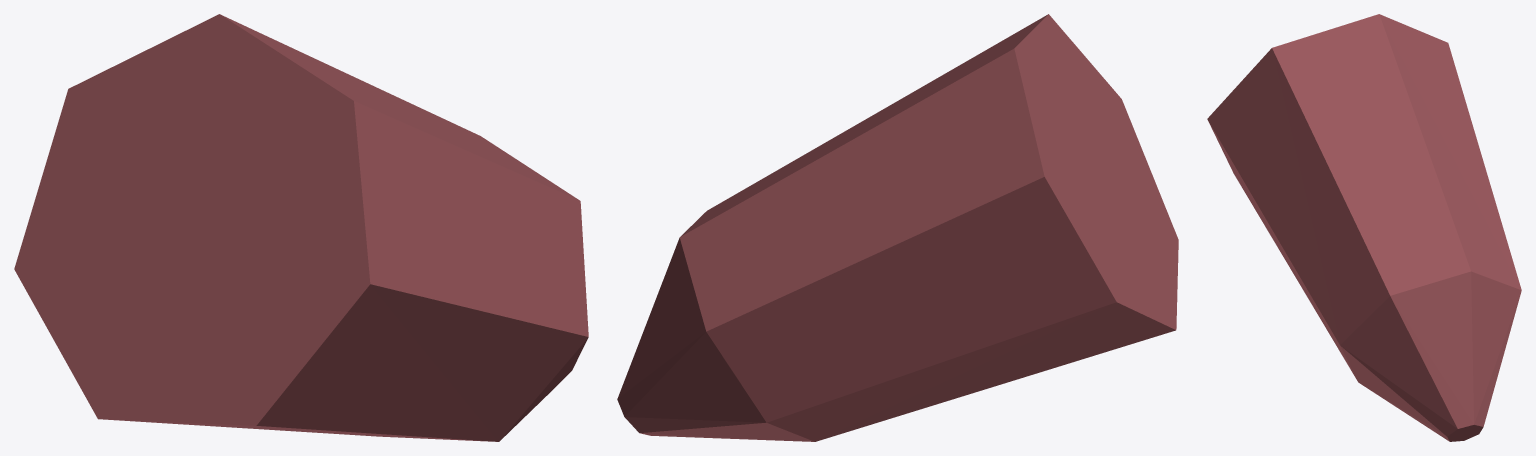
Rendered from dreadmeld_skirt_0.obj.
3 views of the same model, side by side, from view 1: azimuth 30°, elevation 25°; view 2: azimuth 150°, elevation 25°; view 3: azimuth 270°, elevation 25° (orthographic). The views are drawn at different scales.
Visible parts, largest first — view 1: dreadmeld_skirt_0; view 2: dreadmeld_skirt_0; view 3: dreadmeld_skirt_0.
Part boxes in pixels (x1,y1,x2,y2): dreadmeld_skirt_0: (14, 14, 588, 441); dreadmeld_skirt_0: (617, 14, 1178, 441); dreadmeld_skirt_0: (1207, 14, 1521, 441).
Size of the model in its own units: 0.5215 by 0.4433 by 0.4015.
